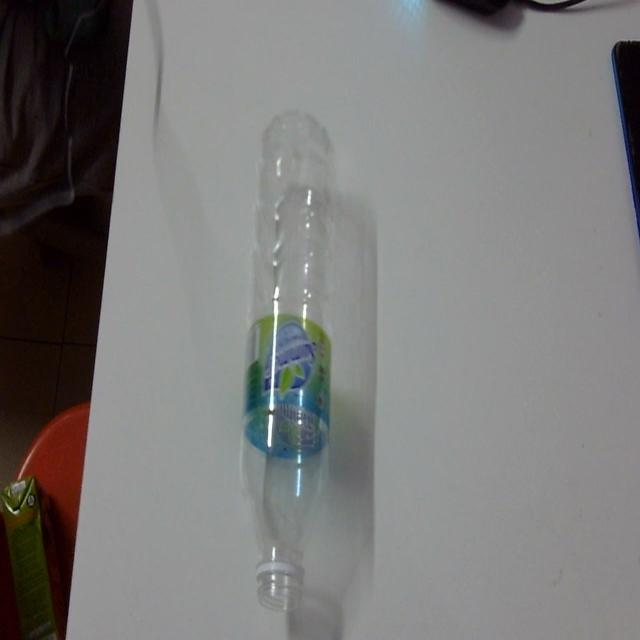plastic_laydown_90rotation: (232, 98, 351, 622)
